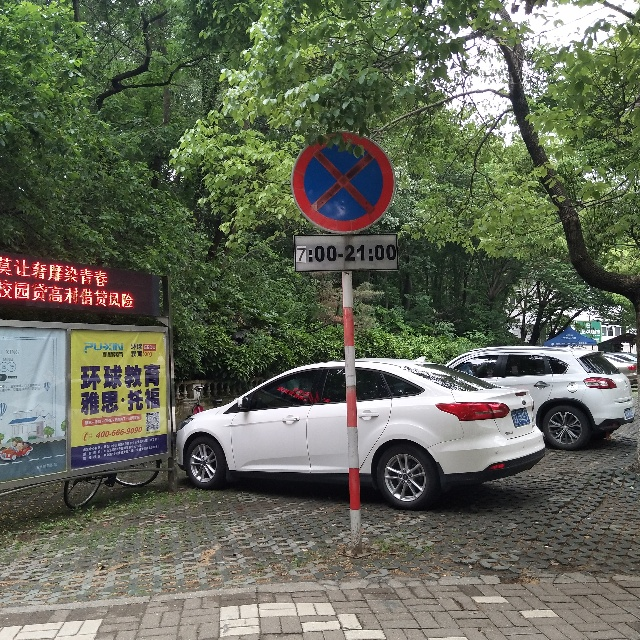stop: (290, 128, 401, 236)
